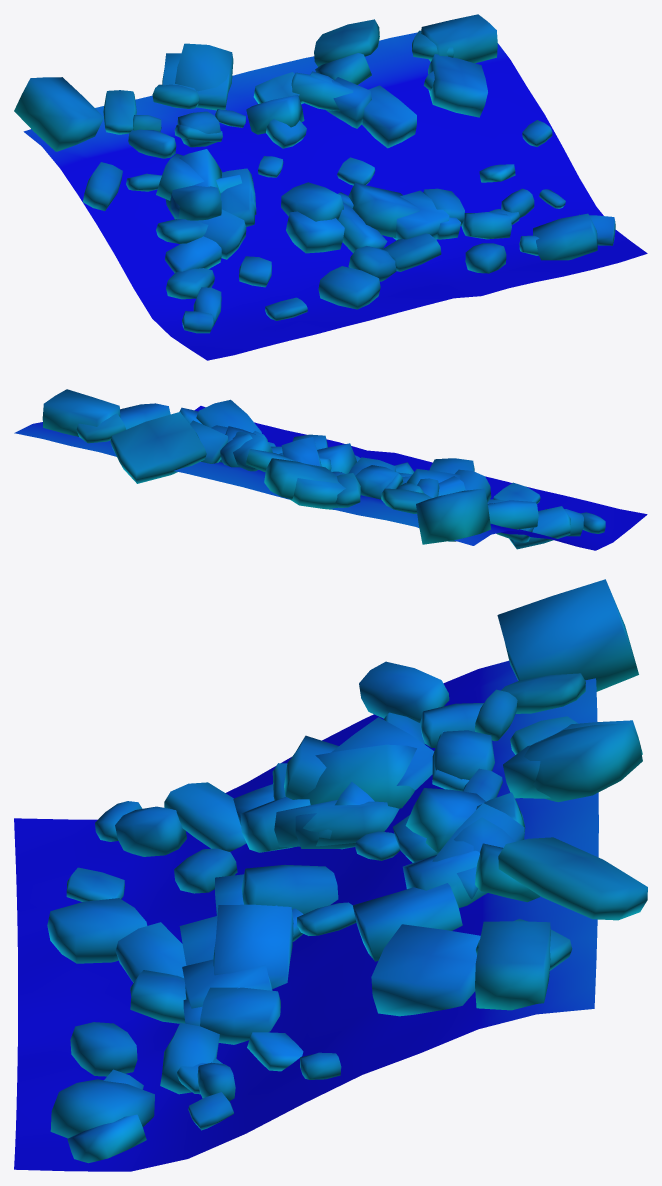
The model's file is wall_apron.glb.
The picture shows the model from 3 angles, top to bottom: view 1: azimuth 30°, elevation 25°; view 2: azimuth 150°, elevation 25°; view 3: azimuth 270°, elevation 25°; orthographic projection. The views are drawn at different scales.
Visible parts, largest first — view 1: wall_apron; view 2: wall_apron; view 3: wall_apron.
Part boxes in pixels (<box>): wall_apron: <box>14,14,647,360</box>; wall_apron: <box>14,389,647,550</box>; wall_apron: <box>14,579,647,1171</box>.
Size of what is drawn, in the model's own units: 11.8 by 3.99 by 8.73.
